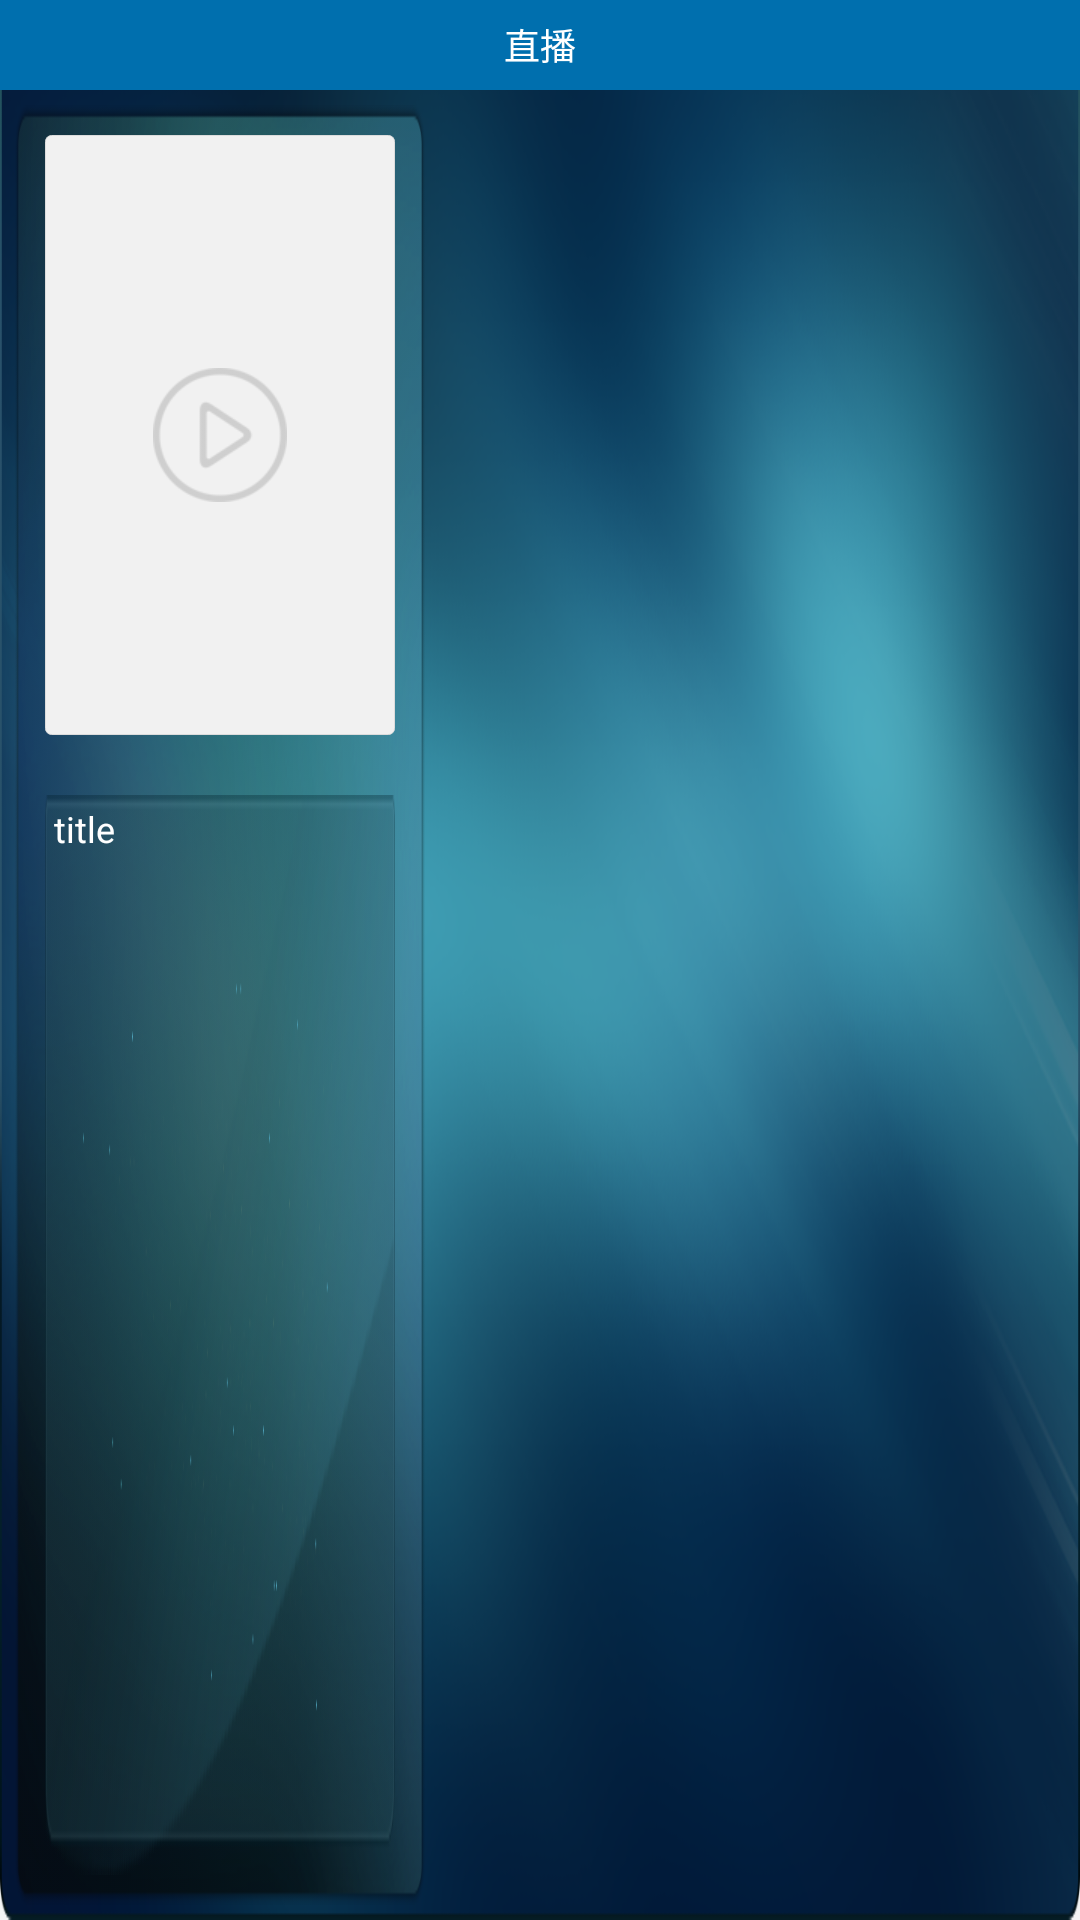

Screen size 1080*1920. Icon name, then its center in pixels as [x,y]:
play: [220,435]
